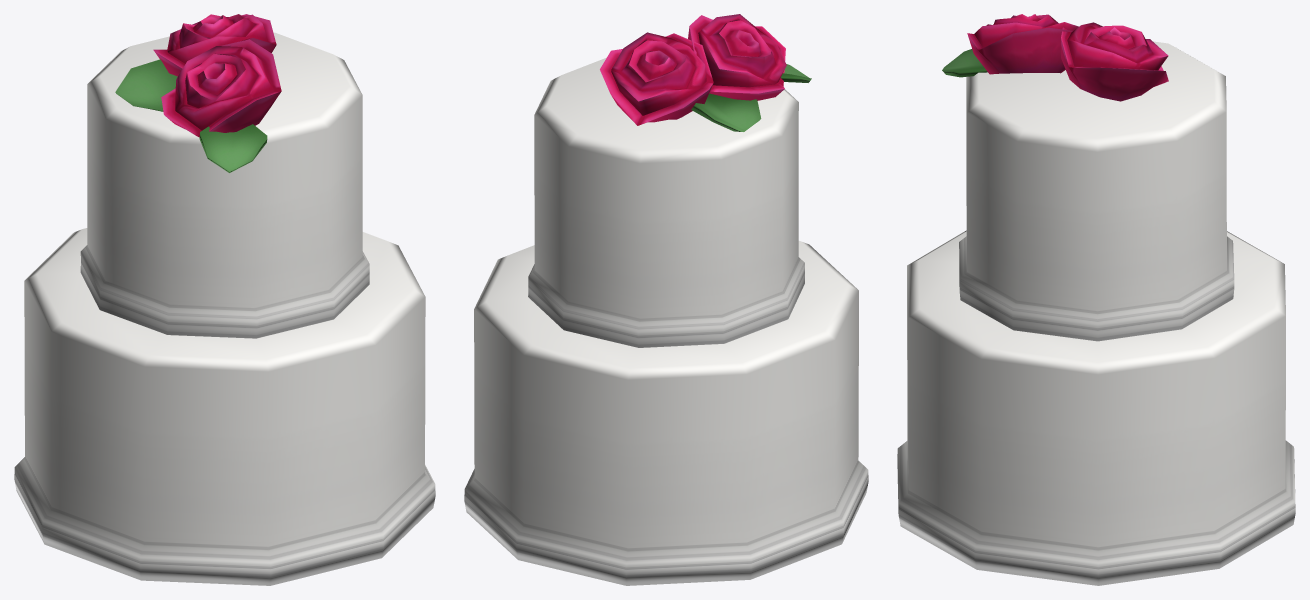
The model's file is WeddingCake_02.fbx.
3 views of the same model, side by side, from view 1: azimuth 30°, elevation 25°; view 2: azimuth 150°, elevation 25°; view 3: azimuth 270°, elevation 25° (orthographic). The views are drawn at different scales.
Parts seen in each view (by area): view 1: WeddingCake_02; view 2: WeddingCake_02; view 3: WeddingCake_02.
Part boxes in pixels (bbox=[...]): WeddingCake_02: bbox=[14, 14, 435, 585]; WeddingCake_02: bbox=[464, 14, 868, 585]; WeddingCake_02: bbox=[897, 14, 1295, 585].
Bounding box in the file's own units: 103 × 129 × 98.65.
